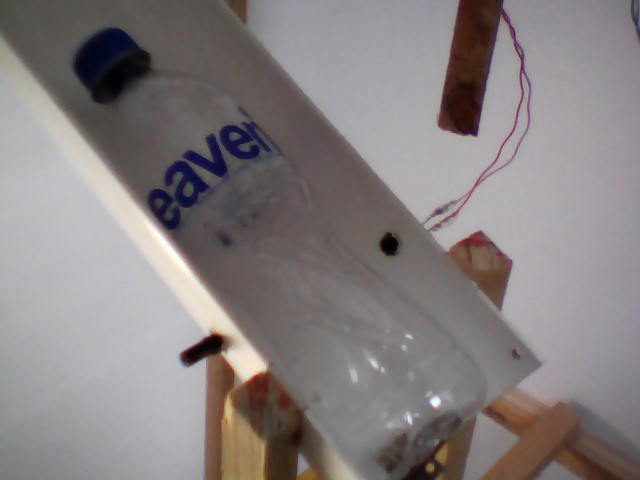plastico: (67, 22, 495, 480)
